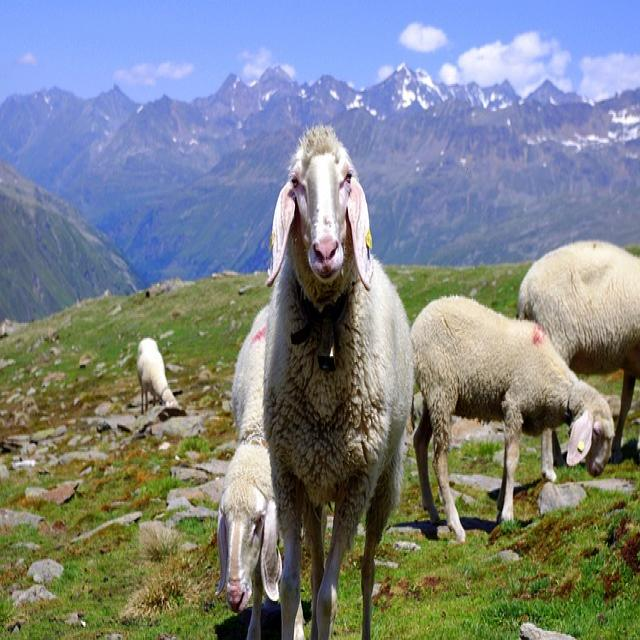goat: (264, 126, 412, 639), (411, 297, 614, 542), (216, 306, 282, 639), (518, 242, 640, 373), (136, 338, 179, 412)
